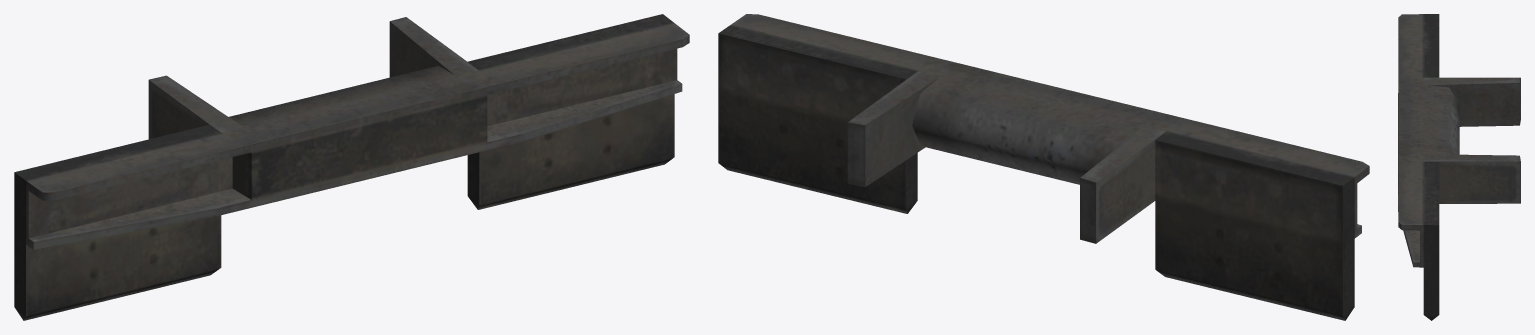
The picture shows the model from 3 angles, left to right: view 1: azimuth 30°, elevation 25°; view 2: azimuth 150°, elevation 25°; view 3: azimuth 270°, elevation 25°; orthographic projection. The views are drawn at different scales.
Visible parts, largest first — view 1: set_0_group_0; view 2: set_0_group_0; view 3: set_0_group_0.
Boxes of the visible parts, x1,y1,x2,y2 form: set_0_group_0: [14, 14, 689, 320]; set_0_group_0: [718, 14, 1369, 320]; set_0_group_0: [1398, 14, 1520, 320].
Size of the model in its own units: 0.5072 by 0.1091 by 0.1247.
1 material, 1 textured.
